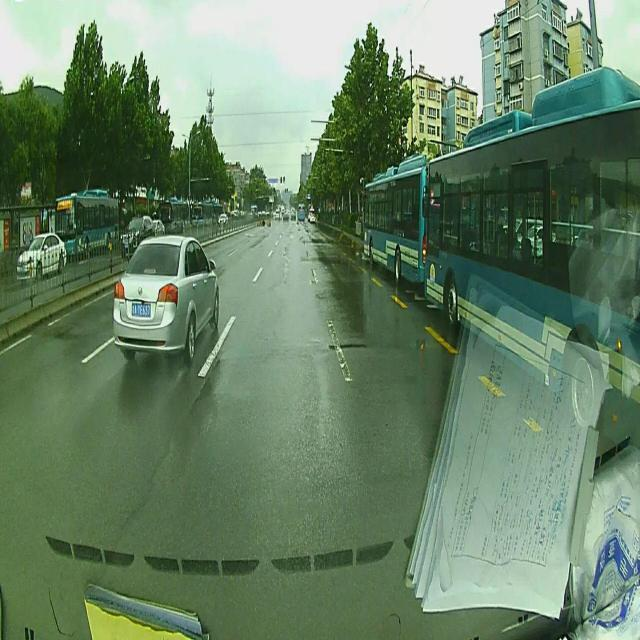car: (114, 238, 218, 358), (16, 236, 64, 277), (122, 216, 152, 254)
